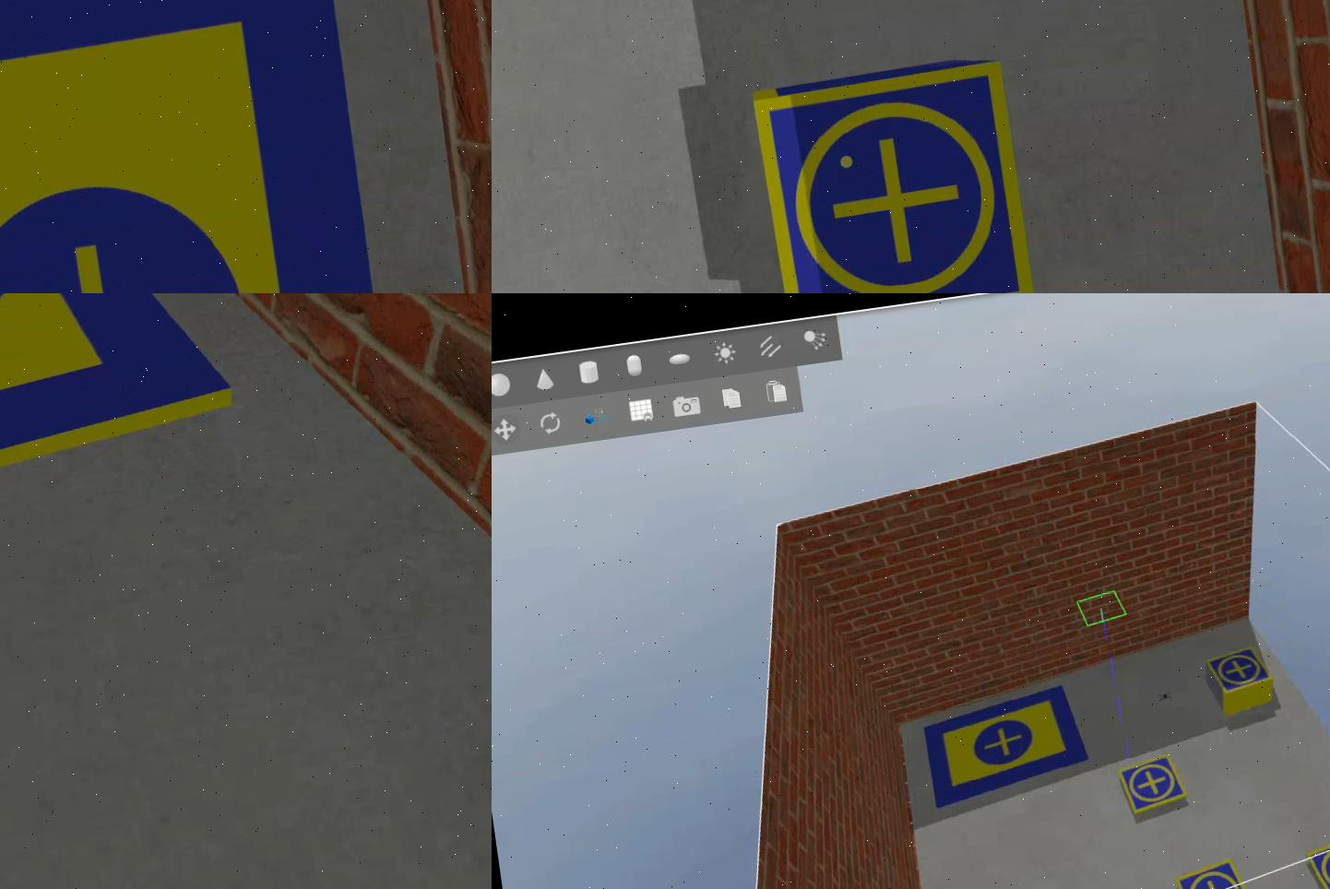large_base: (1, 1, 396, 294), (1, 294, 252, 574), (923, 682, 1094, 809)
small_base: (754, 64, 1033, 294), (1117, 753, 1193, 823), (1206, 646, 1280, 698), (1177, 859, 1262, 889)
